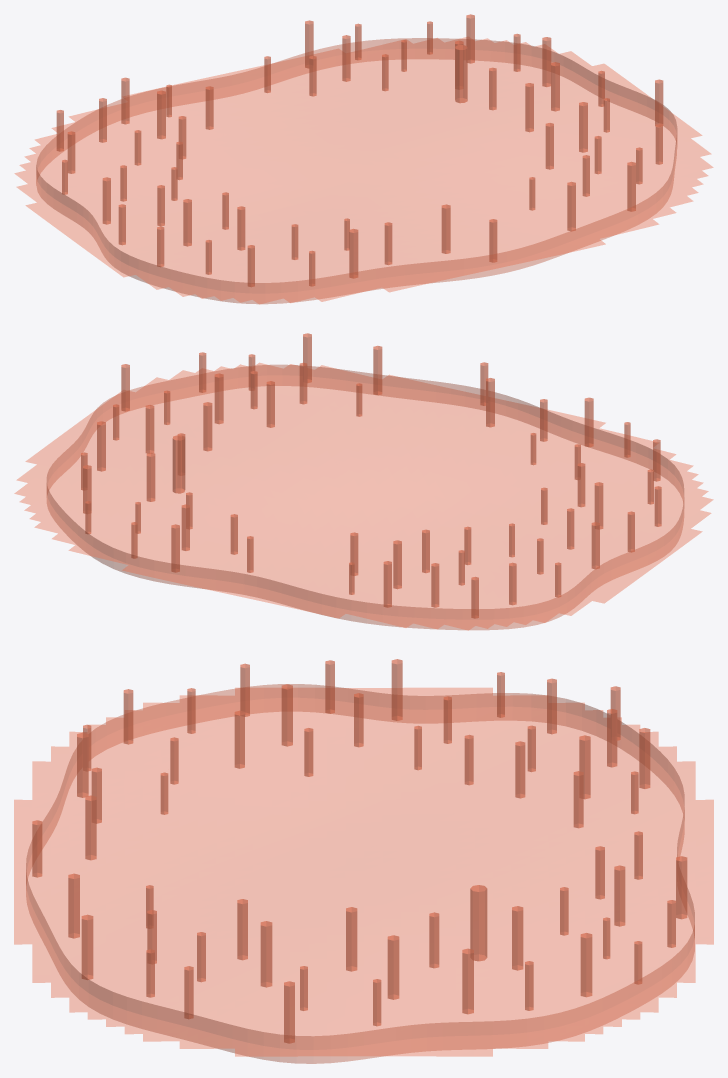
File: forest-collision.glb
3 renders of one model, top to bottom at view 1: azimuth 30°, elevation 25°; view 2: azimuth 150°, elevation 25°; view 3: azimuth 270°, elevation 25°, orthographic. The views are drawn at different scales.
Visible parts, largest first — view 1: COL_Ground, COL_Boundary, COL_Props; view 2: COL_Ground, COL_Boundary, COL_Props; view 3: COL_Ground, COL_Boundary, COL_Props.
Boxes of the visible parts, box(x1,y1,x2,y2) form: COL_Ground: box(14, 37, 713, 304); COL_Boundary: box(36, 38, 677, 303); COL_Props: box(56, 14, 663, 286); COL_Ground: box(14, 363, 713, 630); COL_Boundary: box(46, 365, 684, 629); COL_Props: box(81, 333, 661, 618); COL_Ground: box(14, 688, 713, 1056); COL_Boundary: box(26, 684, 694, 1063); COL_Props: box(32, 659, 687, 1043).
Bounding box in the file's own units: 80 × 9.13 × 64.
